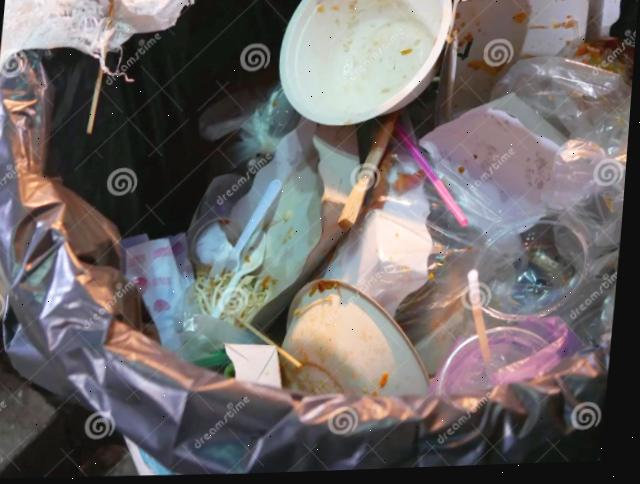Disposable: (481, 222, 593, 324), (214, 180, 285, 318), (442, 331, 553, 399), (191, 174, 256, 263)
Garbage: (113, 0, 639, 397)
Plastic_Bag: (399, 100, 561, 377), (493, 60, 634, 250), (329, 148, 436, 317), (201, 85, 301, 168), (180, 312, 260, 367)
Plastic_Container: (280, 0, 451, 127)
Plastic_Straw: (396, 123, 470, 228), (471, 272, 497, 375)
